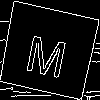M: (23, 25, 71, 79)
